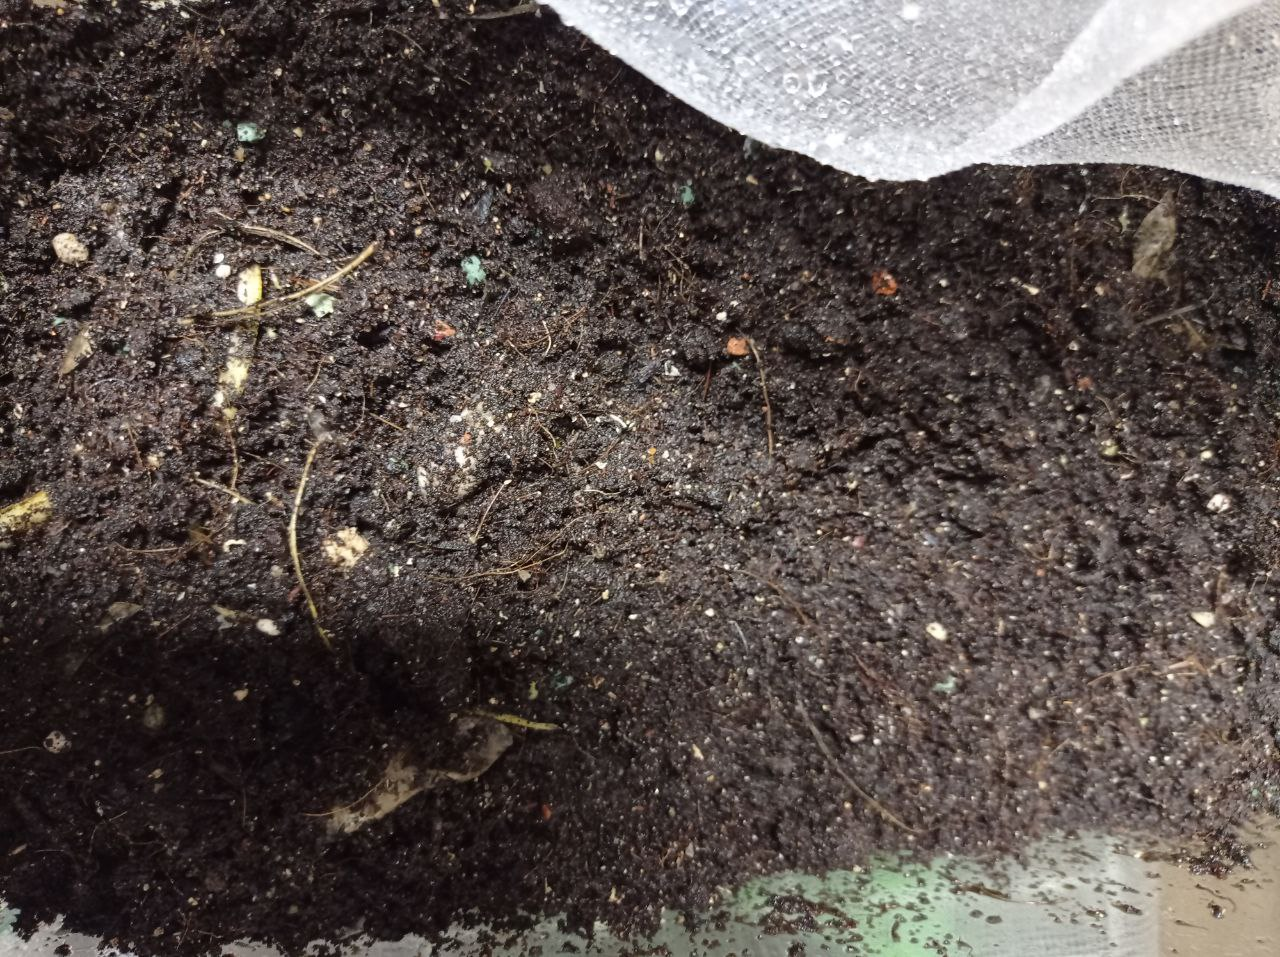dried leaves: (297, 723, 575, 832), (1112, 179, 1224, 343)
